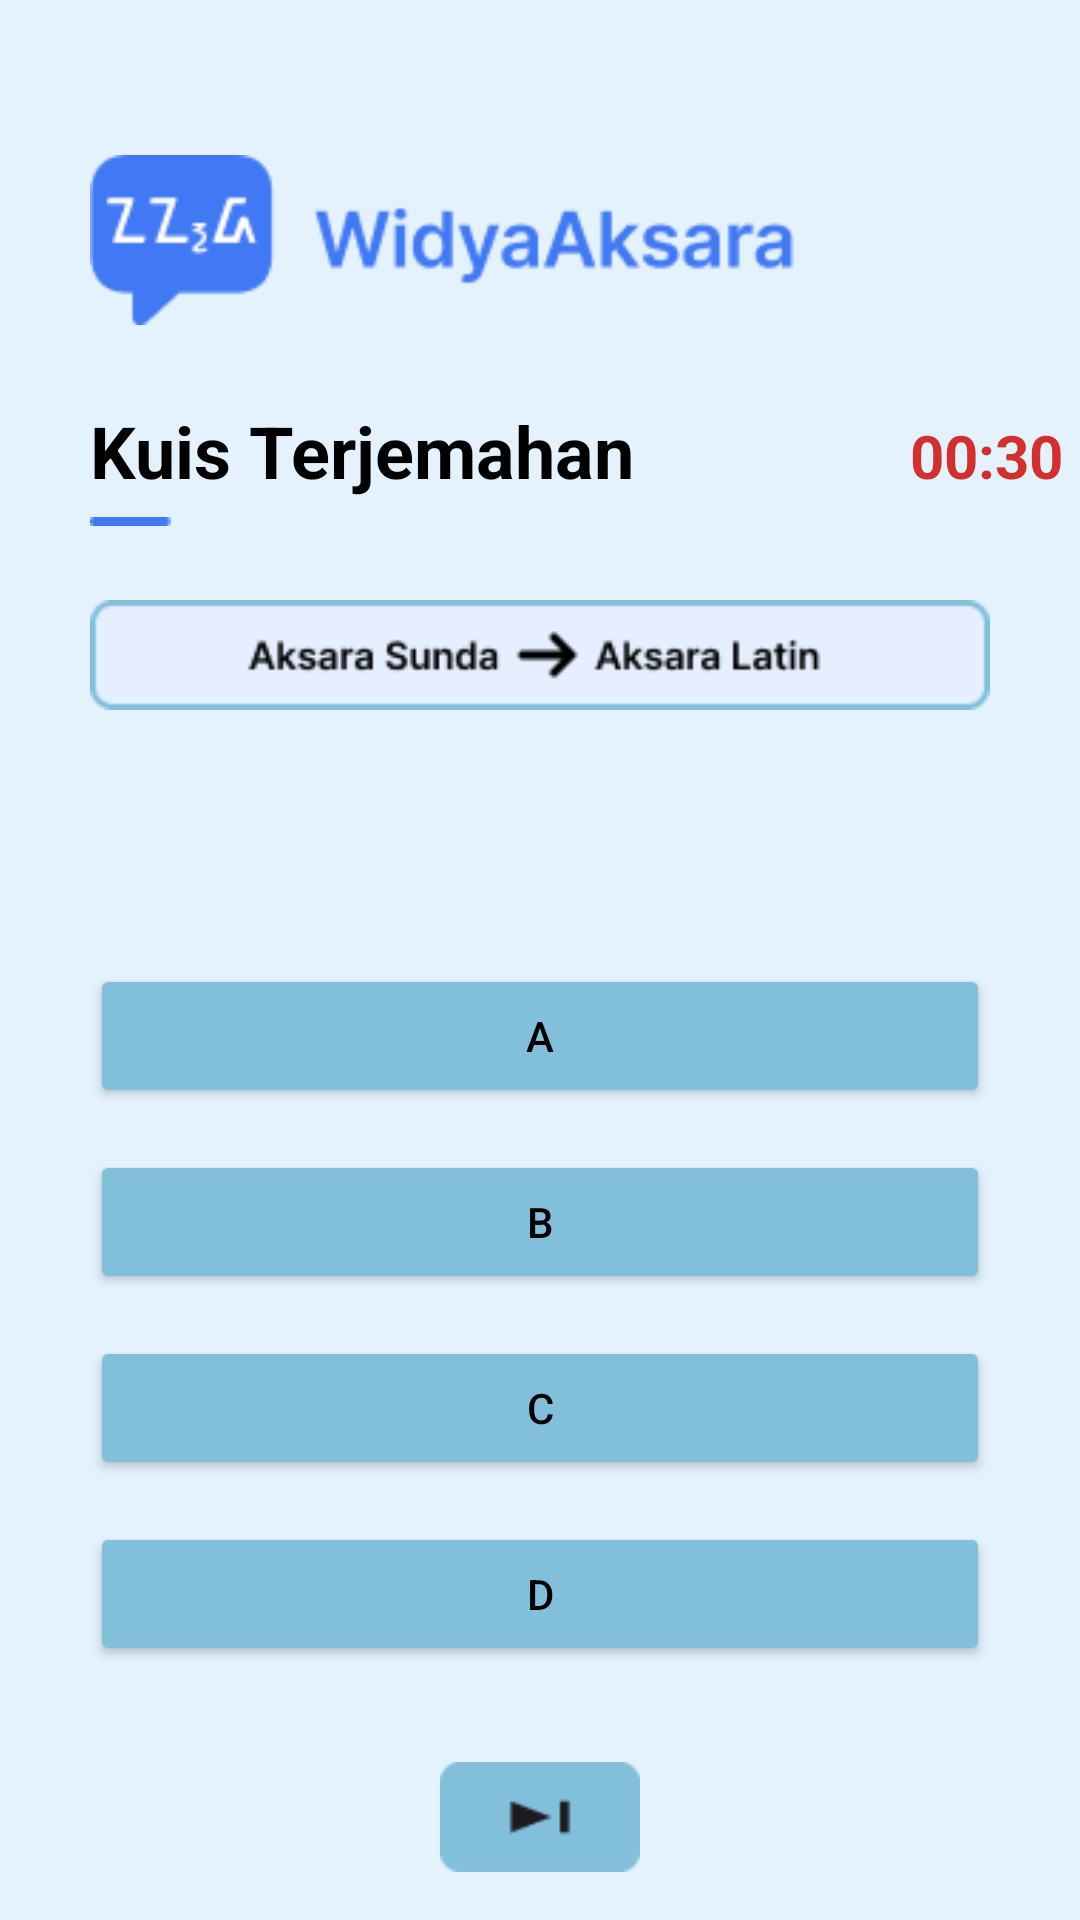

Locate icon controls on the screen. Image size 1080×1920, boxes as (x1, y1, x2, y2).
next pg: (440, 1762, 640, 1872)
